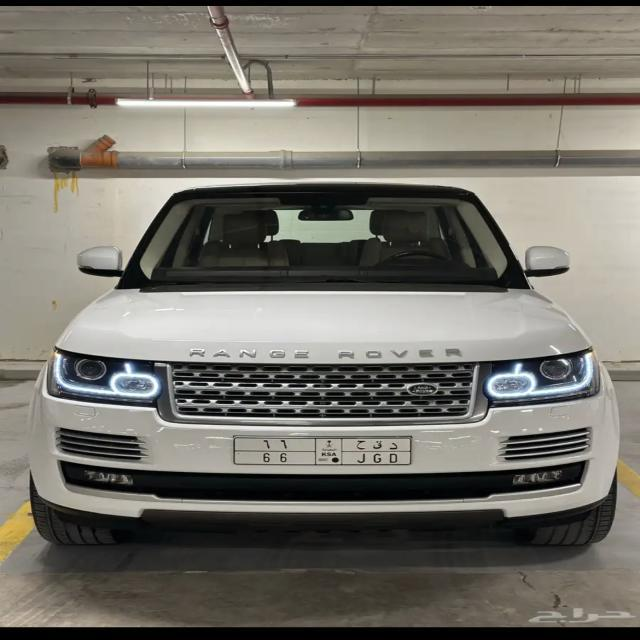license_plate: (234, 433, 416, 468)
